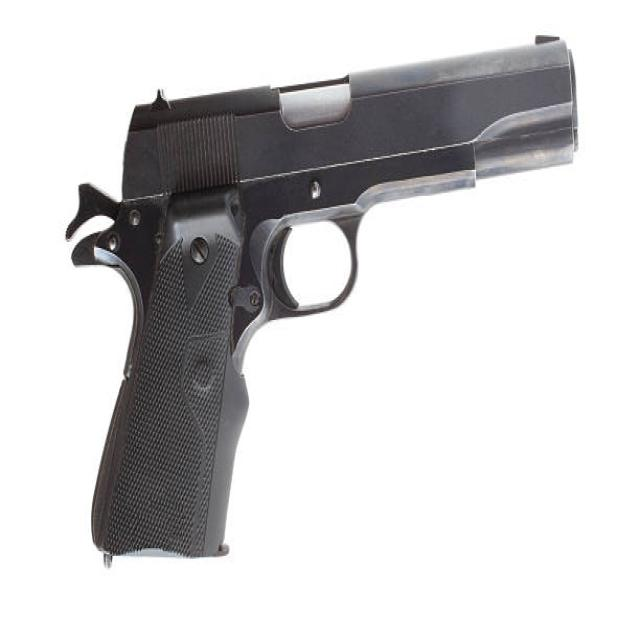pistol: (59, 21, 586, 578)
